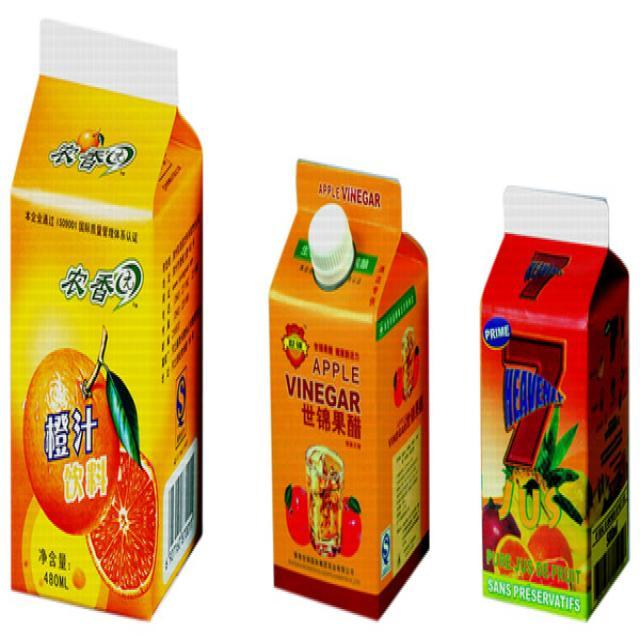Carton: (5, 11, 218, 640), (268, 138, 438, 626), (464, 170, 640, 636)
